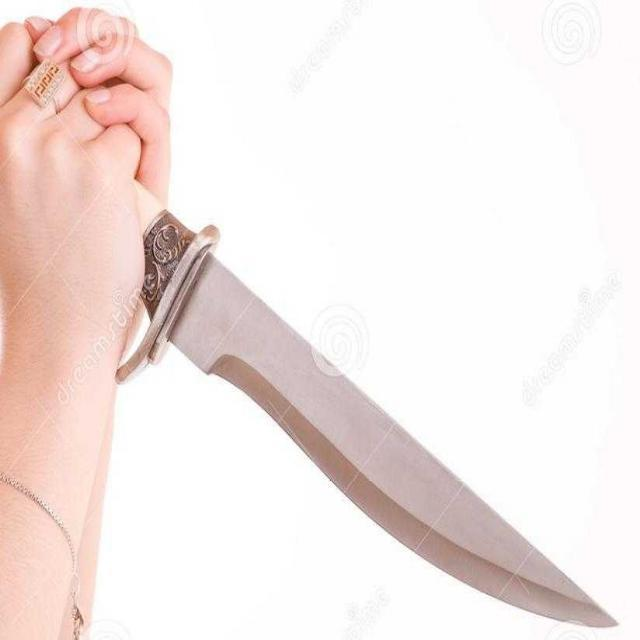knife: (12, 68, 622, 630)
